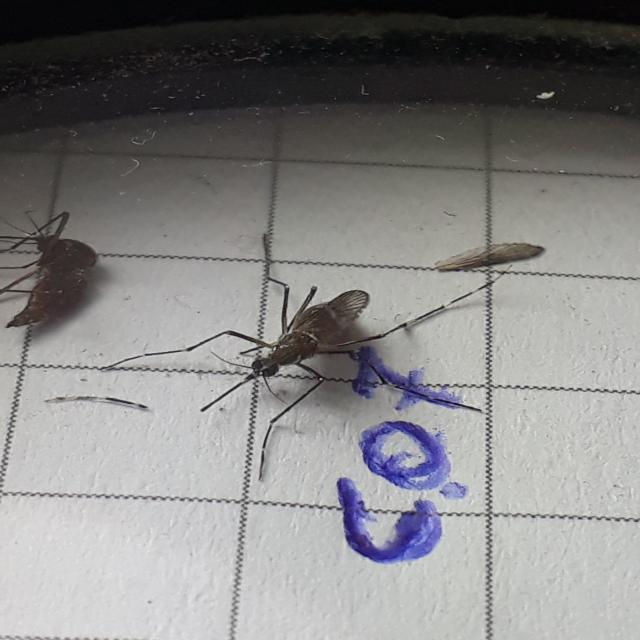aegypti: (64, 196, 543, 509)
